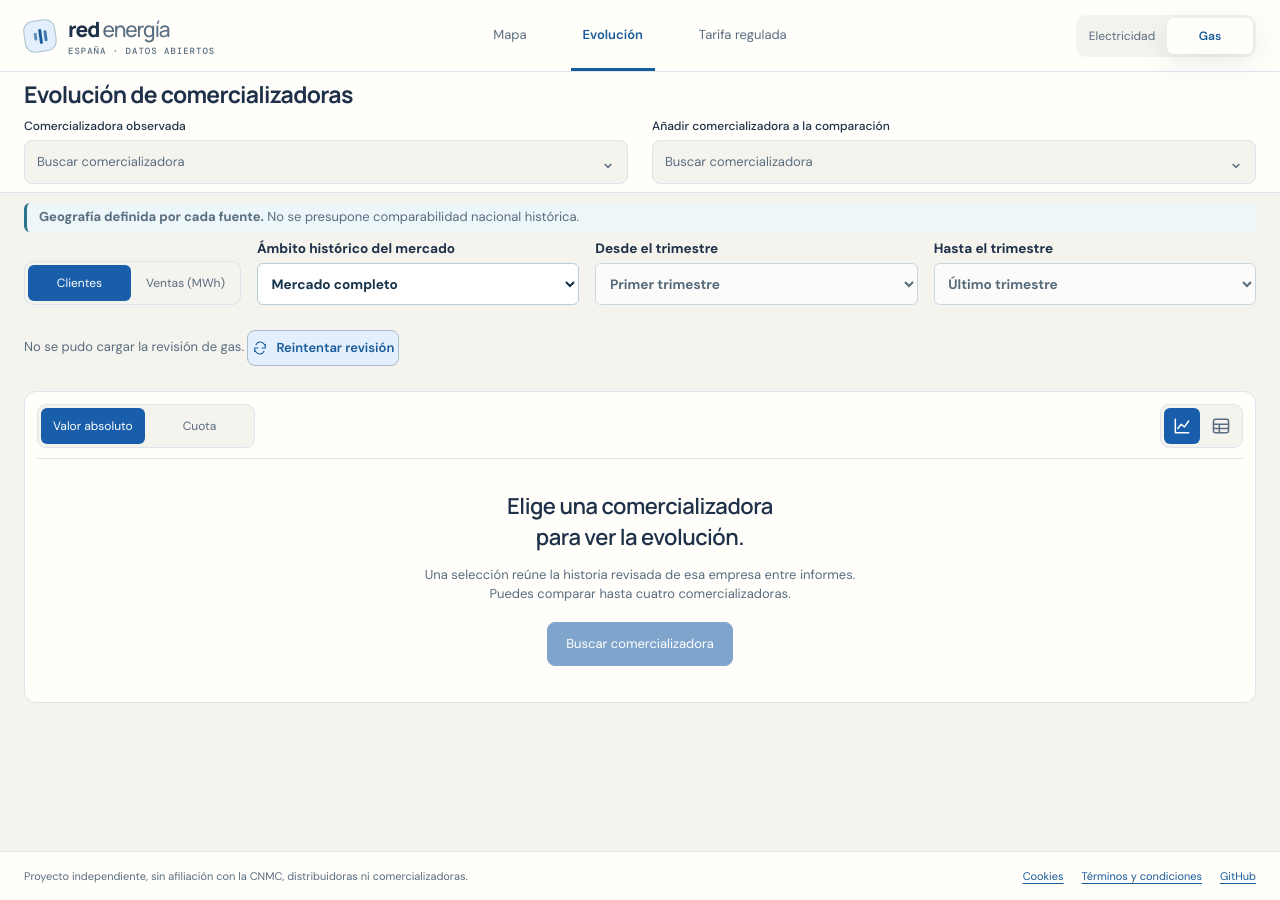
it: gas evolution › offers retry after a revision failure and preserves empty coverage without zeros
expect the message shows "No se pudo cargar la revisión": met, box 24,338 -> 247,355
Click the button "Reintentar revisión". click: coordinates (323, 348)
box: 247,330 -> 399,366
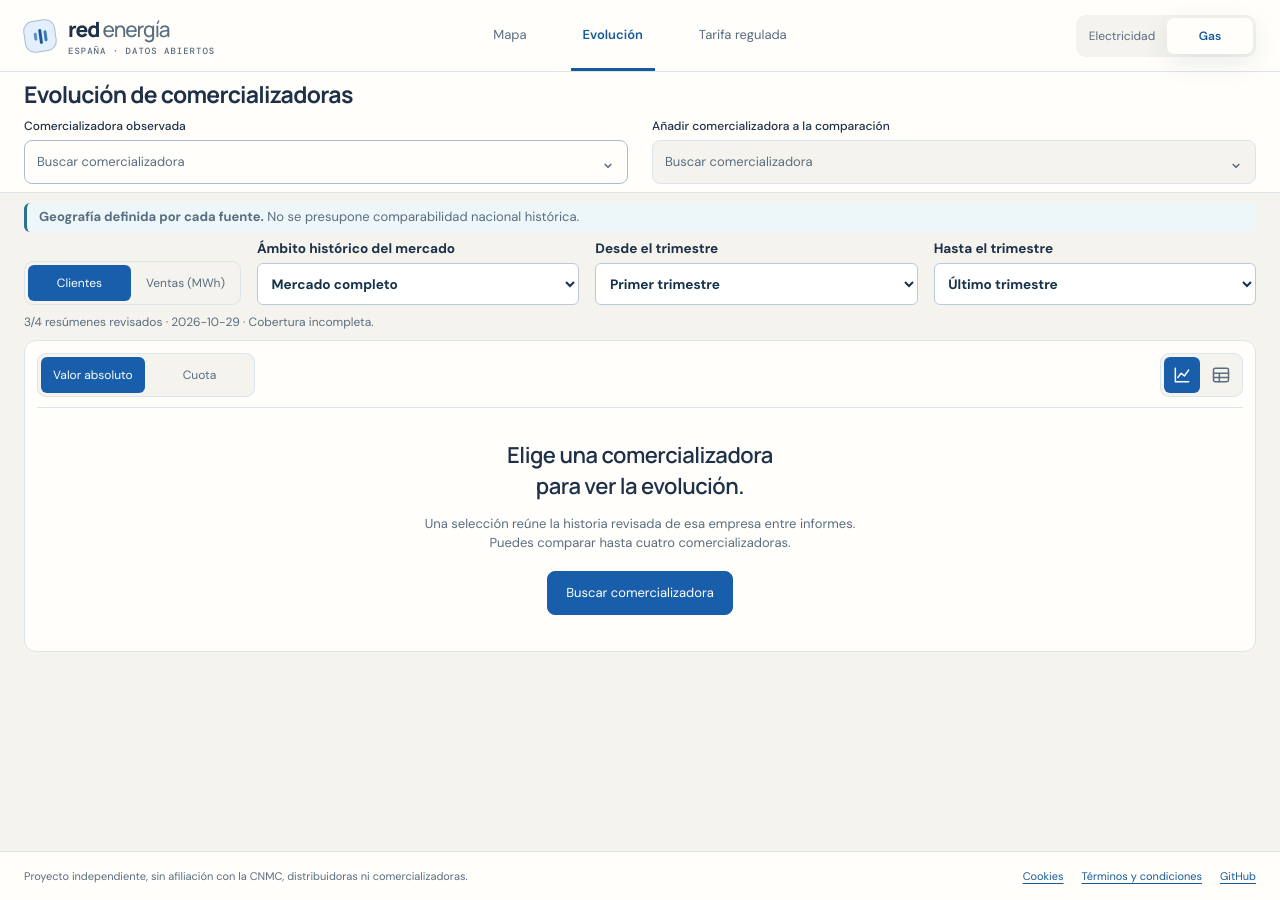
expect the dropdown labelled "Comercializadora observada" is enabled: met, box 24,140 -> 628,184
Click the button "Ventas (MWh)". click: coordinates (186, 283)
box: 134,265 -> 237,301
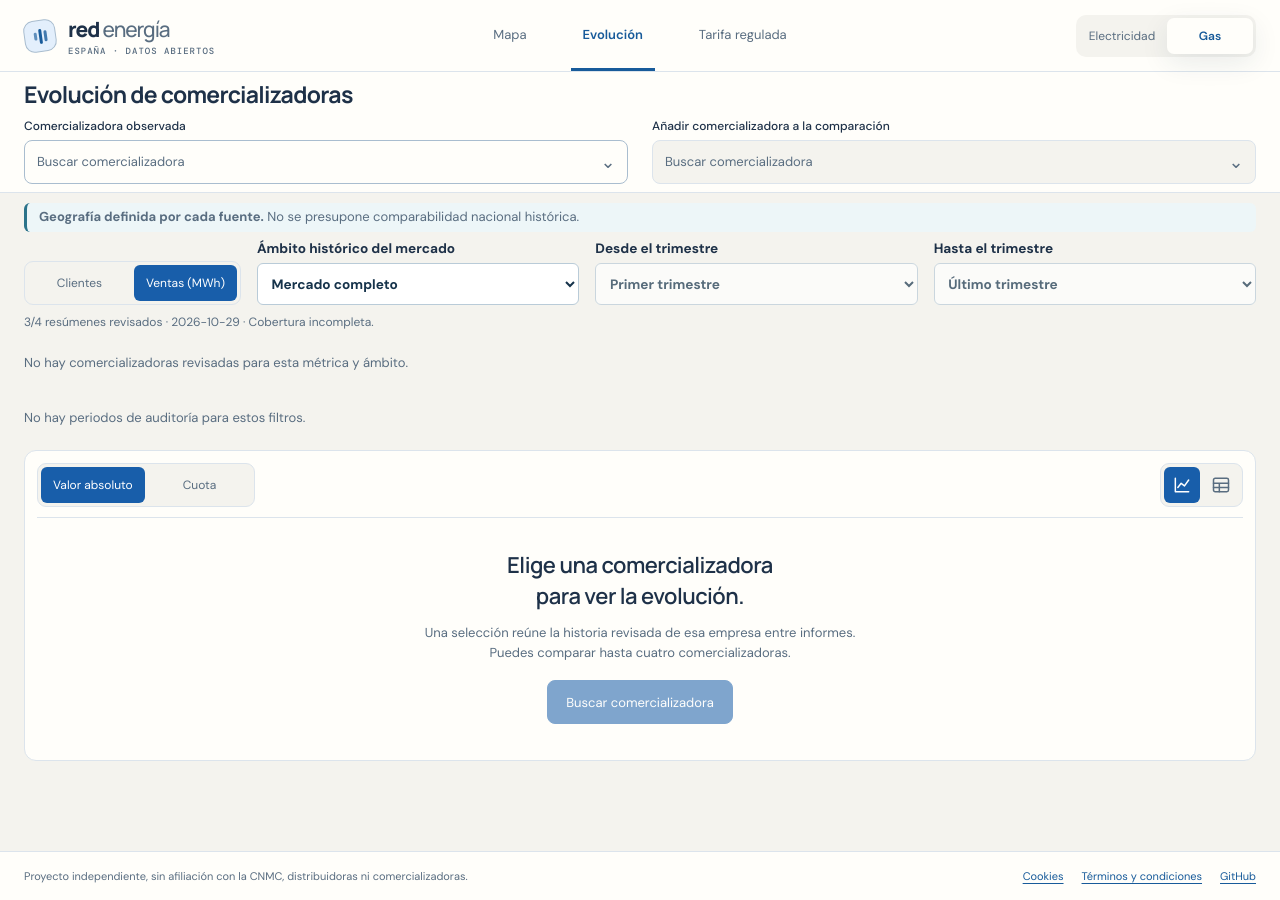
expect the text "No hay comercializadoras revisadas para esta métrica y ámbito." is shown: met, box 24,354 -> 408,371
expect the text "No hay periodos de auditoría para estos filtros." is shown: met, box 24,409 -> 305,426
